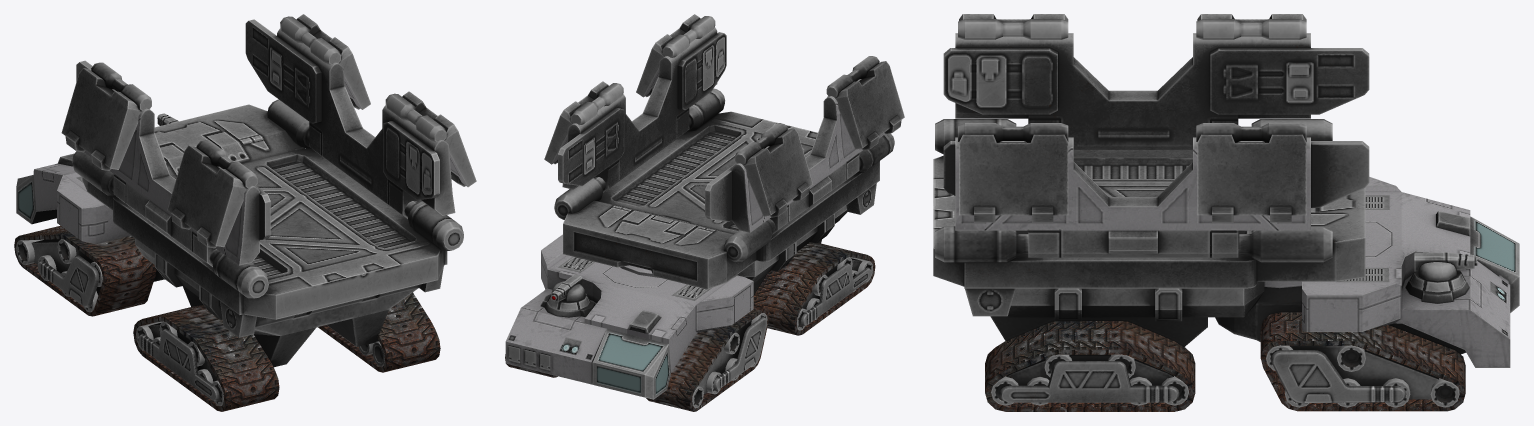
Rendered from Savior.fbx.
The picture shows the model from 3 angles, left to right: view 1: azimuth 30°, elevation 25°; view 2: azimuth 150°, elevation 25°; view 3: azimuth 270°, elevation 25°; orthographic projection. The views are drawn at different scales.
Parts seen in each view (by area): view 1: bed, bedr, trailer, body, bedl, trackl2, flapl2, flapl1, trackl1, trackr2, flapr2, flapr1 (+1 smaller); view 2: bed, body, bedr, bedl, trackl2, flapl2, flapl1, trailer, trackl1, flapr2, flapr1, turret_1 (+1 smaller); view 3: bedl, body, bed, bedr, trailer, flapr1, flapr2, trackr2, trackr1, flapl2, flapl1, turret_1 (+3 smaller).
Part boxes in pixels (left/top/right/bottom): bed: left=72, top=99, right=463, bottom=337; bedr: left=245, top=19, right=455, bottom=218; trailer: left=135, top=239, right=417, bottom=401; body: left=16, top=153, right=164, bottom=307; bedl: left=76, top=60, right=270, bottom=266; trackl2: left=133, top=305, right=279, bottom=411; flapl2: left=167, top=140, right=257, bottom=248; flapl1: left=61, top=62, right=151, bottom=170; trackl1: left=14, top=225, right=156, bottom=316; trackr2: left=318, top=292, right=440, bottom=372; flapr2: left=385, top=91, right=476, bottom=187; flapr1: left=280, top=14, right=370, bottom=109; bed: left=554, top=88, right=894, bottom=289; body: left=505, top=234, right=767, bottom=399; bedr: left=558, top=27, right=726, bottom=192; bedl: left=705, top=79, right=884, bottom=234; trackl2: left=753, top=242, right=875, bottom=335; flapl2: left=826, top=56, right=904, bottom=150; flapl1: left=735, top=123, right=812, bottom=217; trailer: left=620, top=205, right=871, bottom=326; trackl1: left=646, top=306, right=768, bottom=411; flapr2: left=636, top=14, right=715, bottom=97; flapr1: left=544, top=81, right=623, bottom=164; turret_1: left=547, top=281, right=590, bottom=310; bedl: left=943, top=33, right=1369, bottom=149; body: left=1215, top=177, right=1519, bottom=403; bed: left=933, top=119, right=1365, bottom=316; bedr: left=943, top=137, right=1369, bottom=257; trailer: left=990, top=281, right=1301, bottom=402; flapr1: left=1196, top=123, right=1306, bottom=222; flapr2: left=958, top=123, right=1068, bottom=222; trackr2: left=985, top=321, right=1195, bottom=411; trackr1: left=1260, top=312, right=1465, bottom=411; flapl2: left=958, top=14, right=1068, bottom=39; flapl1: left=1196, top=14, right=1306, bottom=39; turret_1: left=1409, top=262, right=1465, bottom=292.
Bounding box in the file's own units: 1481 × 2499 × 1321.
Materials: 1 (1 with a texture image).
